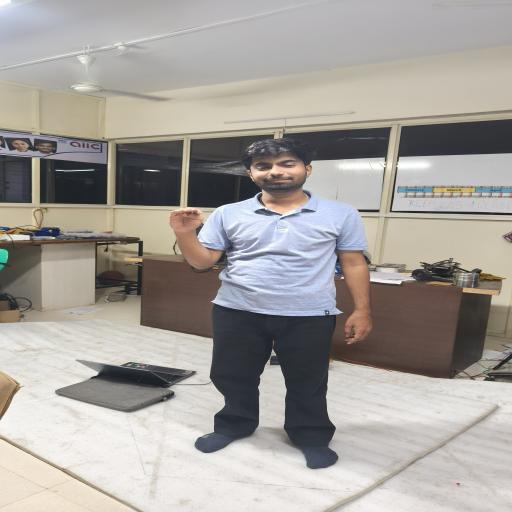survivor: (168, 138, 372, 470)
